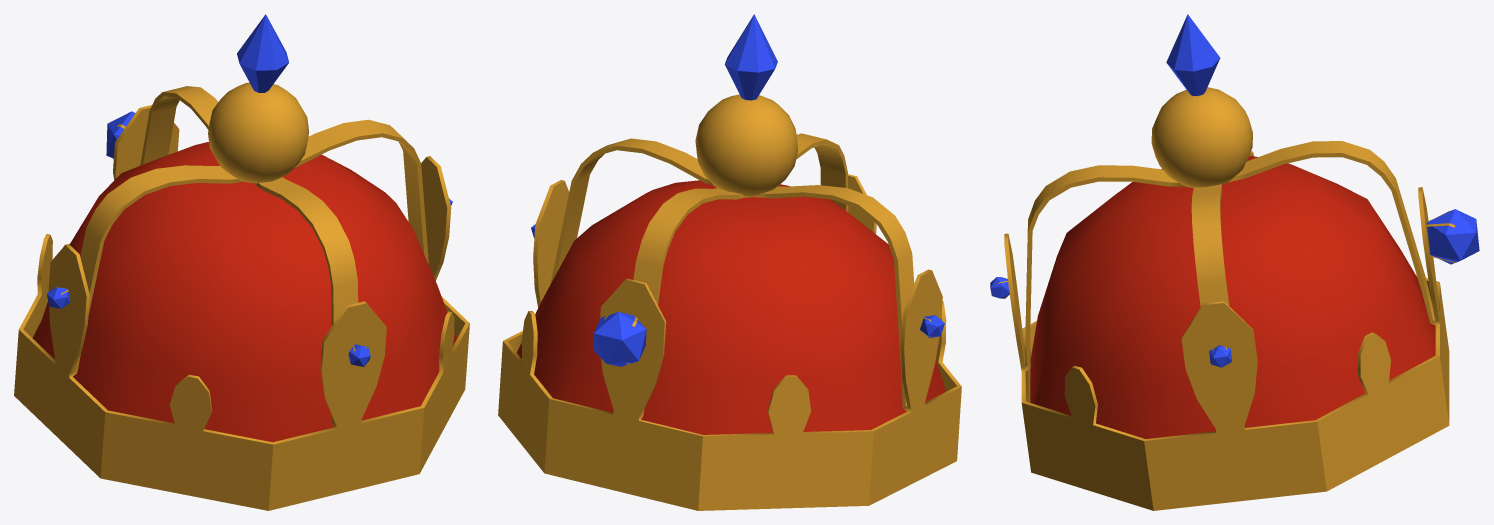
Rendered from crown_royal.glb.
The picture shows the model from 3 angles, left to right: view 1: azimuth 30°, elevation 25°; view 2: azimuth 150°, elevation 25°; view 3: azimuth 270°, elevation 25°; orthographic projection.
Parts seen in each view (by area): view 1: 0.044, 1.034, 2.016; view 2: 0.044, 1.034, 2.016; view 3: 1.034, 0.044, 2.016.
Part boxes in pixels (box(x1,y1,x2,y2)): 0.044: box(14, 82, 469, 510); 1.034: box(32, 142, 456, 442); 2.016: box(46, 14, 452, 366); 0.044: box(498, 94, 961, 510); 1.034: box(516, 180, 945, 434); 2.016: box(531, 14, 944, 366); 1.034: box(1030, 156, 1435, 438); 0.044: box(998, 87, 1456, 510); 2.016: box(990, 14, 1479, 367).
Size of the model in its own units: 0.4508 by 0.4536 by 0.4771.
